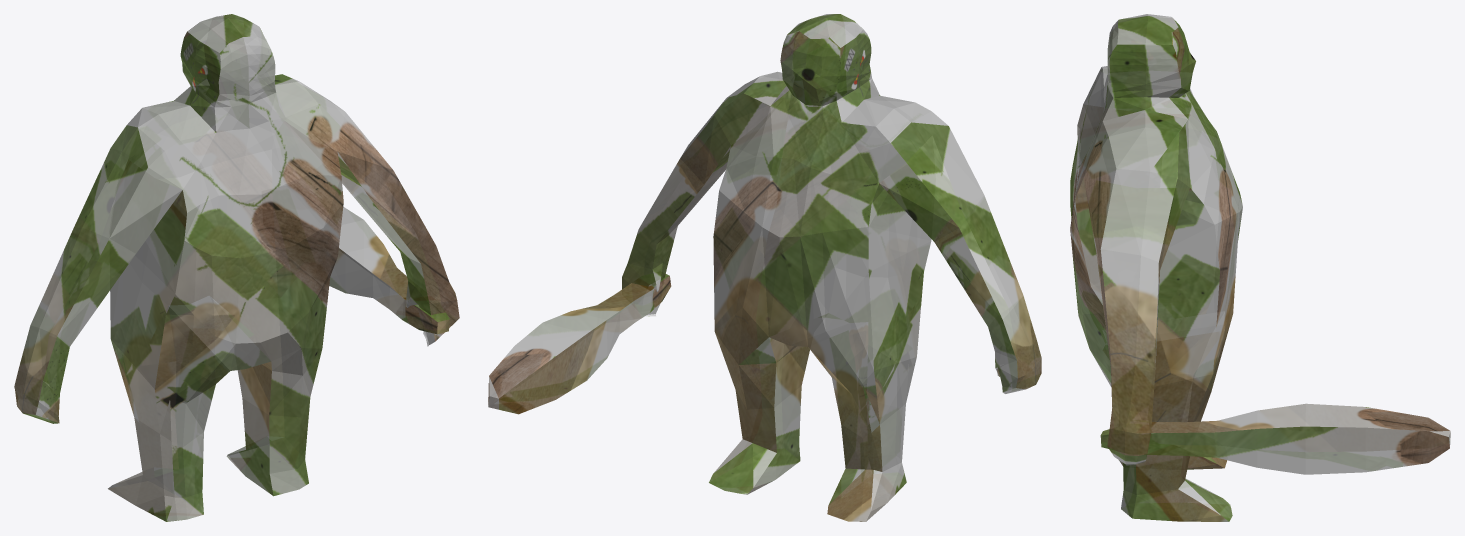
File: Enemigo21.obj
3 views of the same model, side by side, from view 1: azimuth 30°, elevation 25°; view 2: azimuth 150°, elevation 25°; view 3: azimuth 270°, elevation 25° (orthographic). The views are drawn at different scales.
Visible parts, largest first — view 1: Cube; view 2: Cube; view 3: Cube.
Part boxes in pixels (x1,y1,x2,y2): Cube: (14,14,459,521); Cube: (488,14,1041,521); Cube: (1070,14,1450,521).
Bounding box in the file's own units: 2.52 × 2.71 × 1.98.
